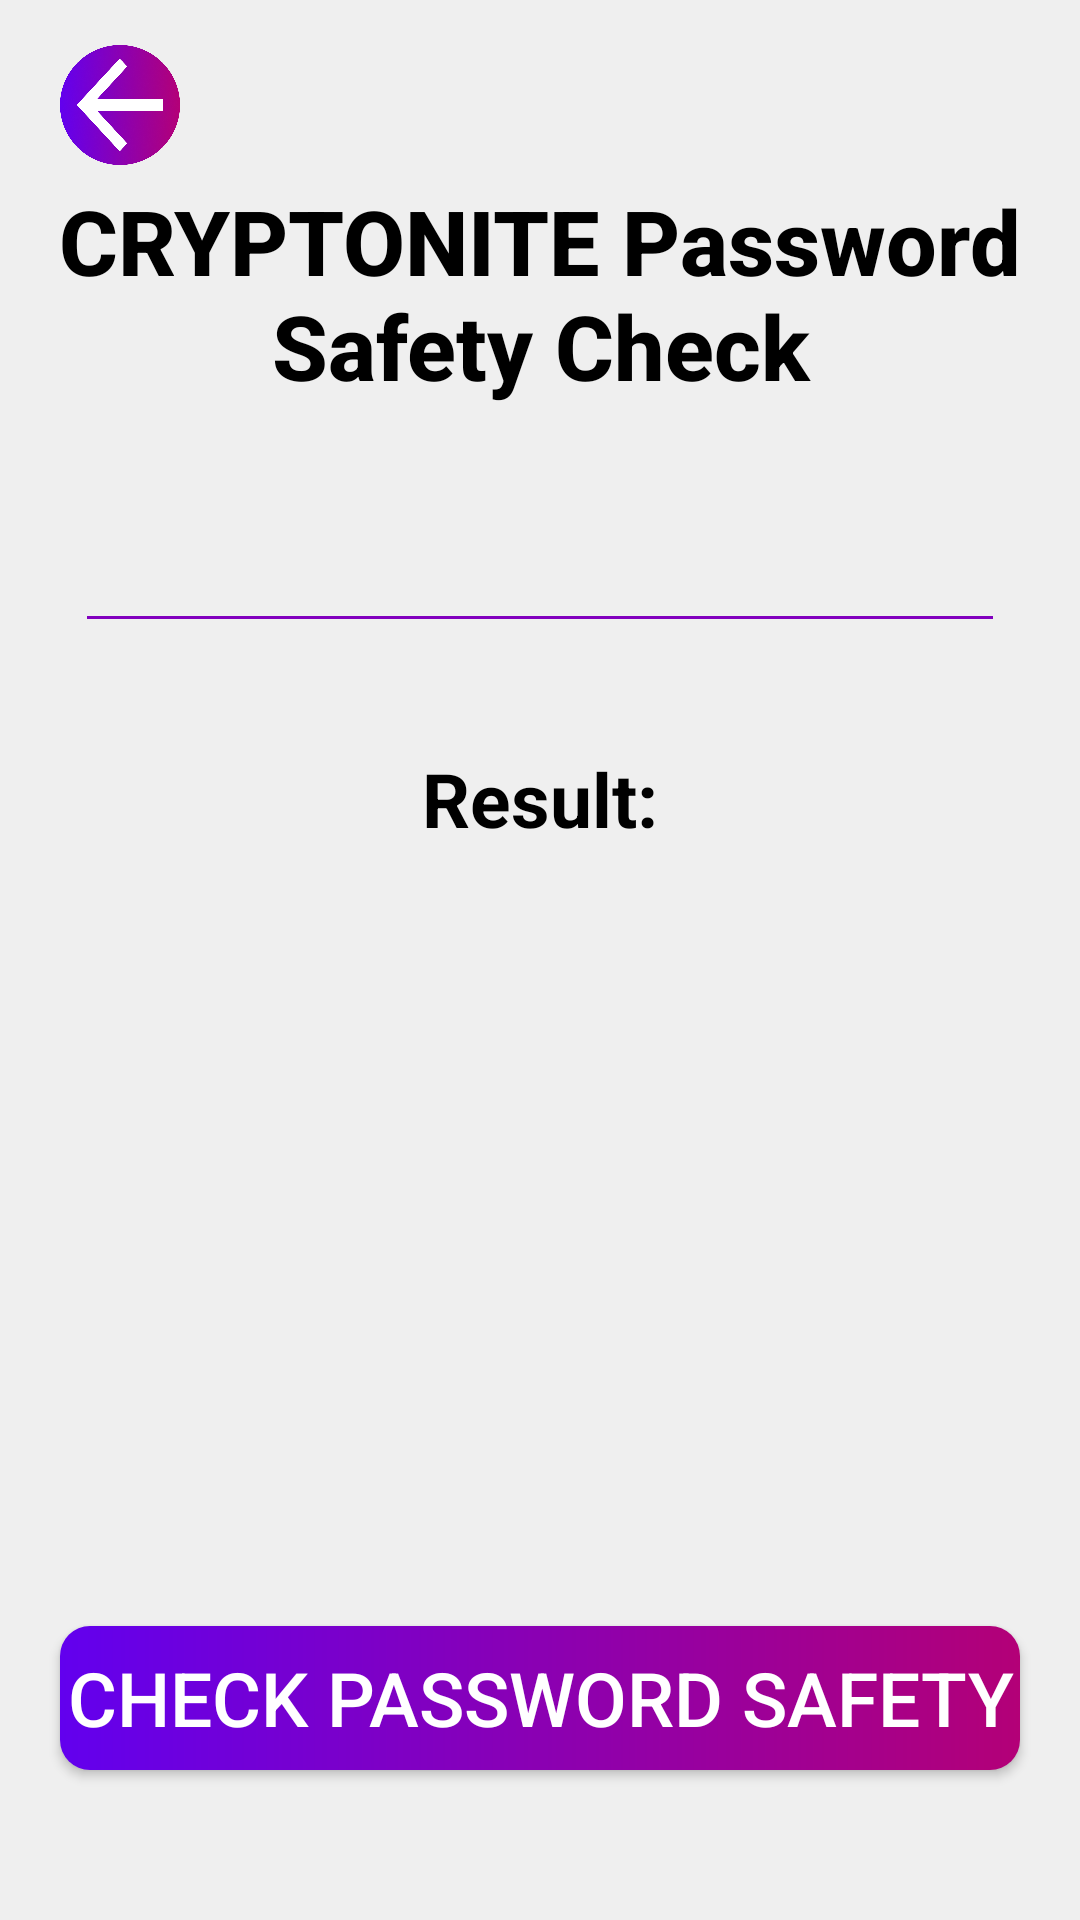

Screen size 1080 × 1920. Icon name, then its center in pixels as [x,y]:
back: [120,105]
